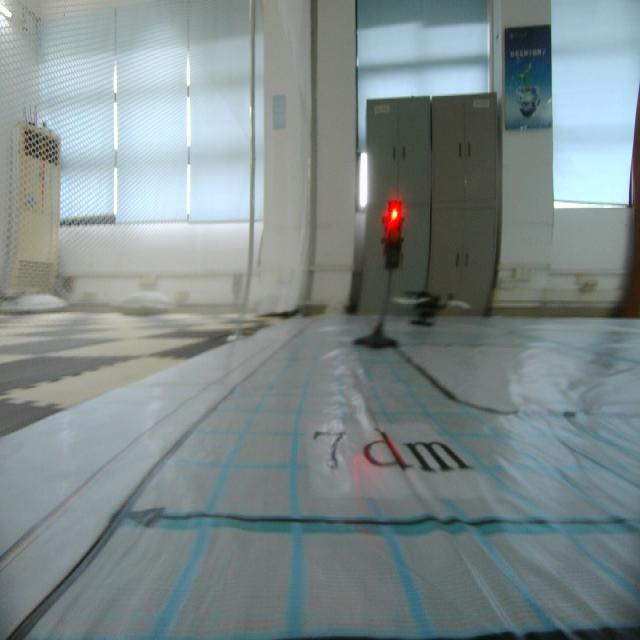red: (377, 196, 408, 283)
